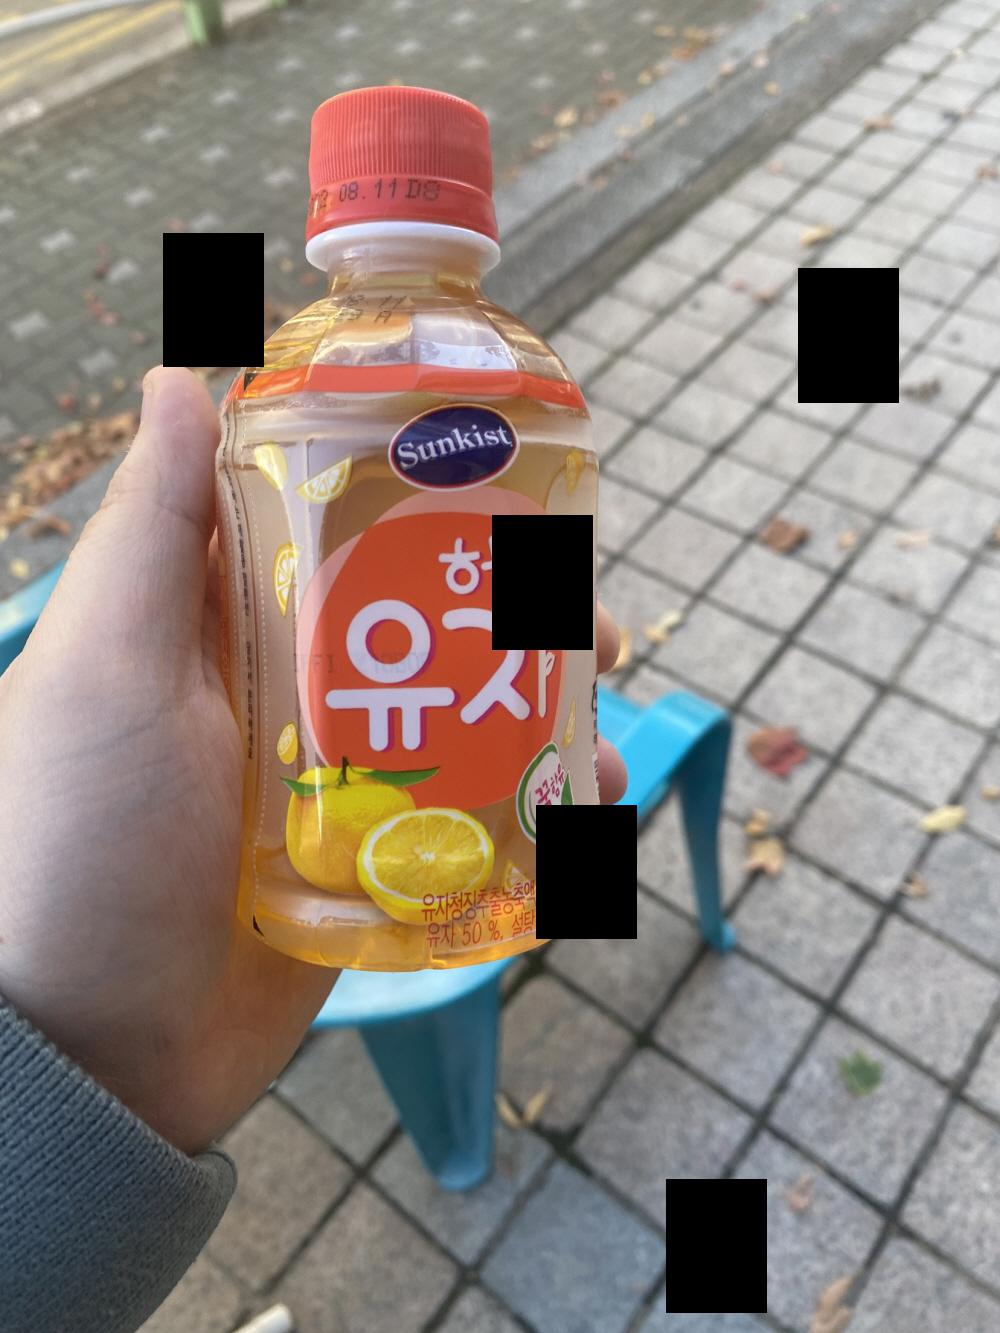honeyyuja: (205, 77, 601, 979)
